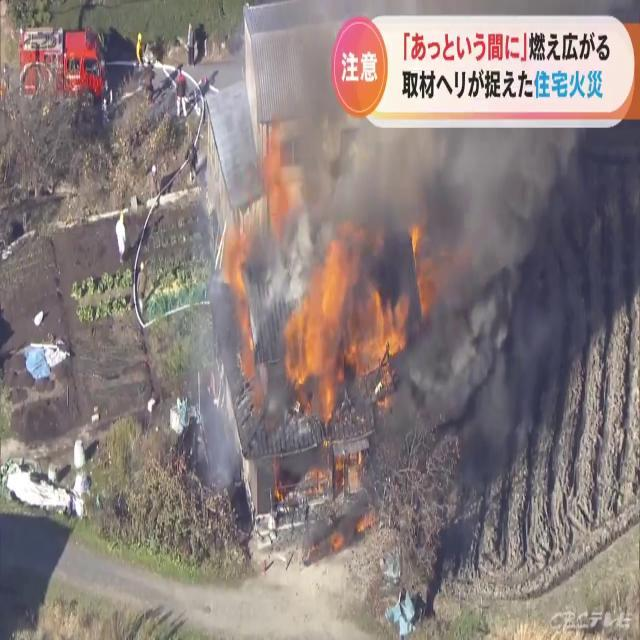Fire: (276, 228, 418, 421)
Smoke: (225, 101, 640, 504)
